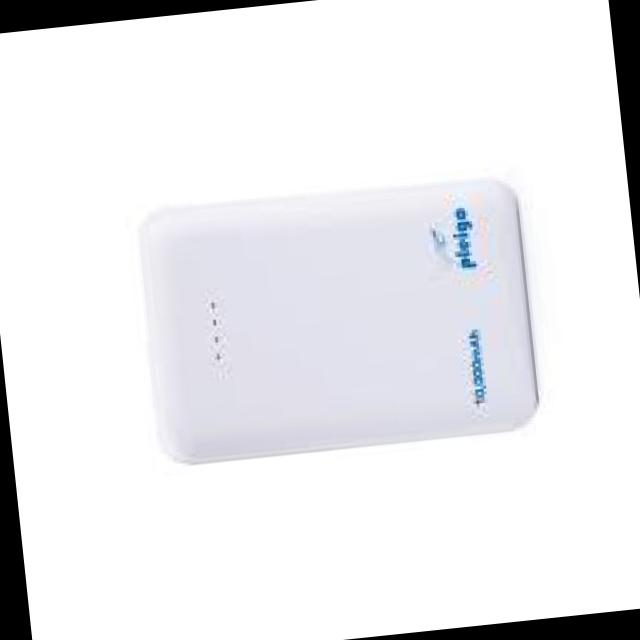portable-charger: (122, 170, 546, 470)
